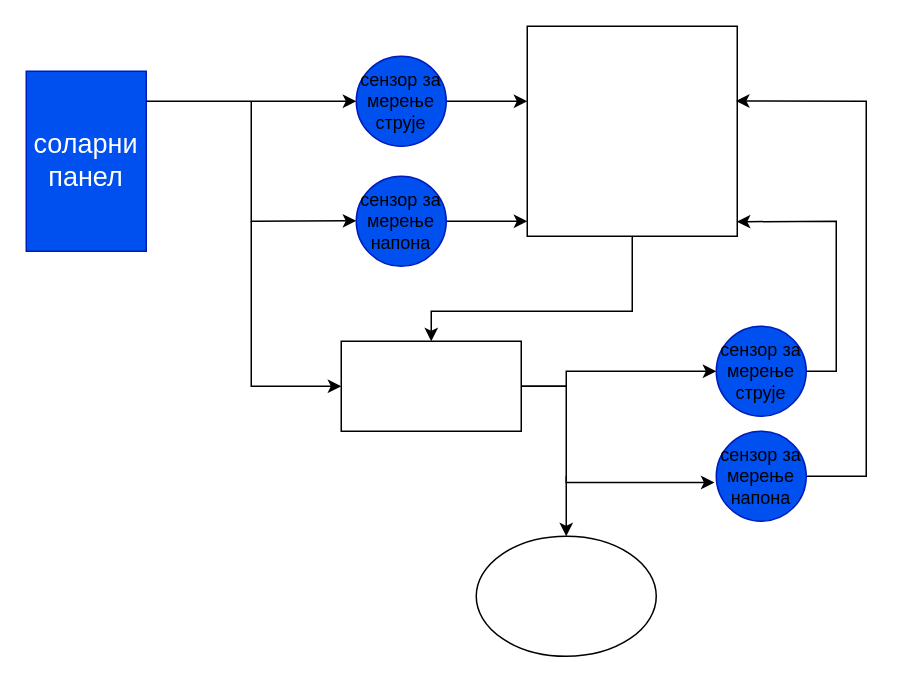
This 905x683 diagram has some shape labels left out. The shapes that lost their labels are listed below. From the top down, each one's centre as x and y in pixels, then its label:
At point (631, 130): "микроконтролер".
At point (430, 385): "DC-DC конвертер".
At point (565, 595): "оптерећење".
